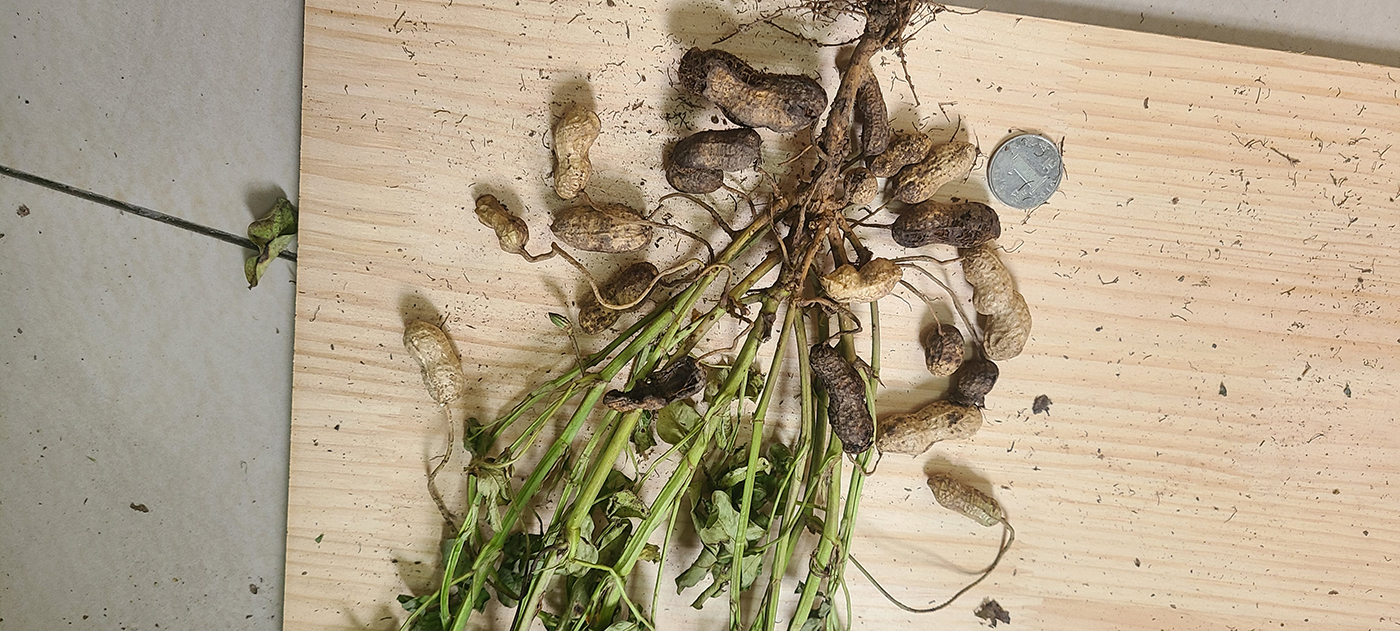h: (963, 251, 1033, 359), (873, 399, 984, 454), (580, 263, 662, 335), (403, 320, 465, 403), (895, 143, 978, 204), (551, 208, 653, 254), (552, 108, 601, 199), (926, 473, 1002, 528), (822, 258, 903, 303), (473, 195, 529, 254), (871, 134, 930, 179), (858, 77, 886, 157), (925, 325, 965, 377), (844, 167, 876, 205)
l: (678, 46, 828, 132), (809, 343, 874, 454), (604, 356, 703, 411), (890, 203, 1000, 247), (677, 128, 762, 174), (953, 359, 1000, 408), (668, 164, 723, 195)
